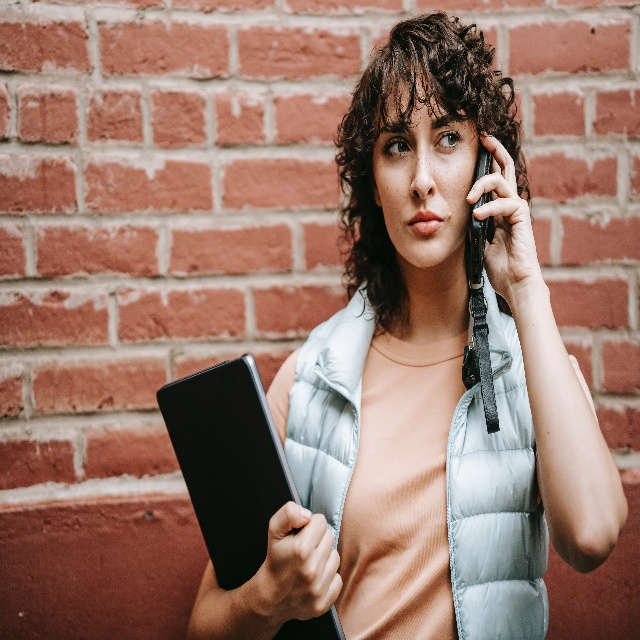Sin_guantes: (466, 130, 541, 297), (266, 500, 343, 621)
